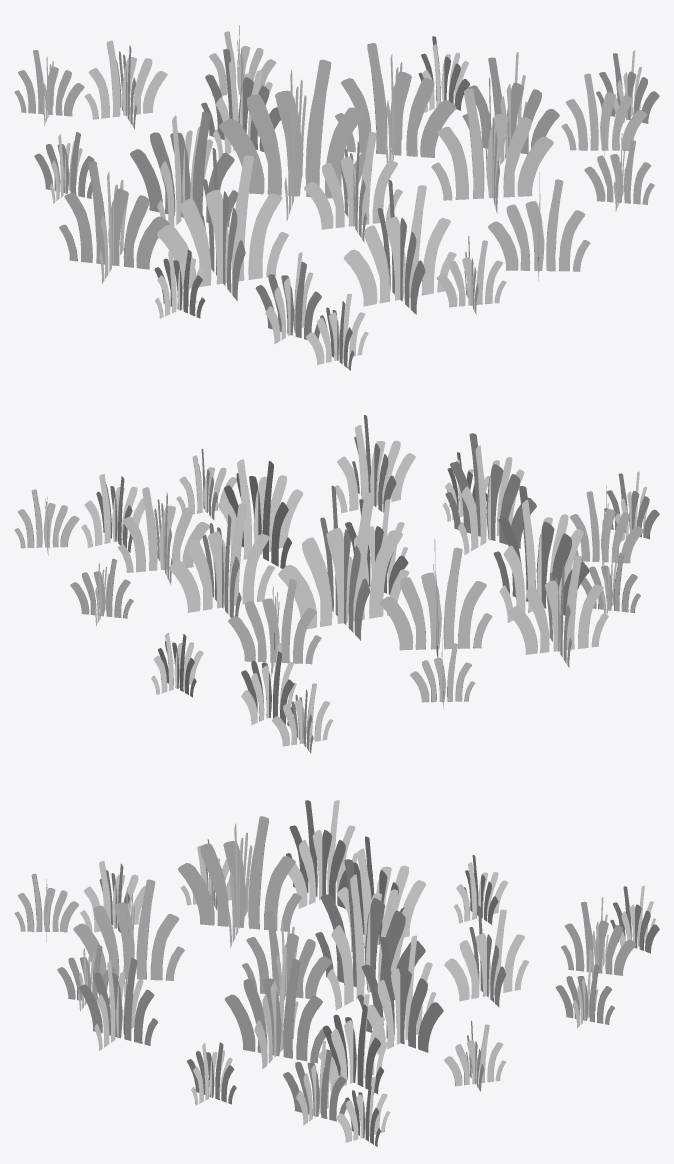
The model's file is SM_Grass3.fbx.
3 renders of one model, top to bottom at view 1: azimuth 30°, elevation 25°; view 2: azimuth 150°, elevation 25°; view 3: azimuth 270°, elevation 25°, orthographic. The views are drawn at different scales.
Visible parts, largest first — view 1: SM_Grass3; view 2: SM_Grass3; view 3: SM_Grass3.
Boxes of the visible parts, x1,y1,x2,y2 form: SM_Grass3: (14,25,659,370); SM_Grass3: (14,415,659,753); SM_Grass3: (14,800,659,1146).
Size of the model in its own units: 177 by 40.23 by 182.
